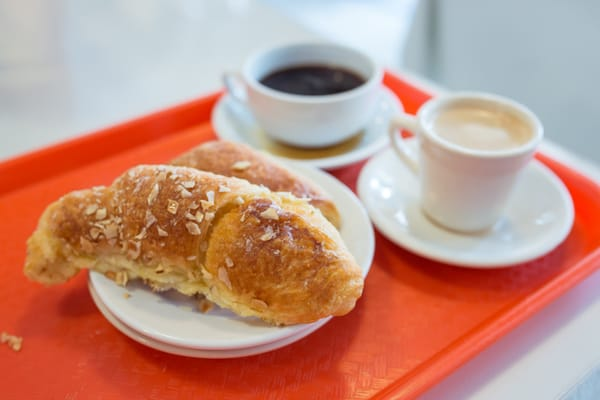pizza: (387, 90, 552, 232), (222, 38, 403, 149)
